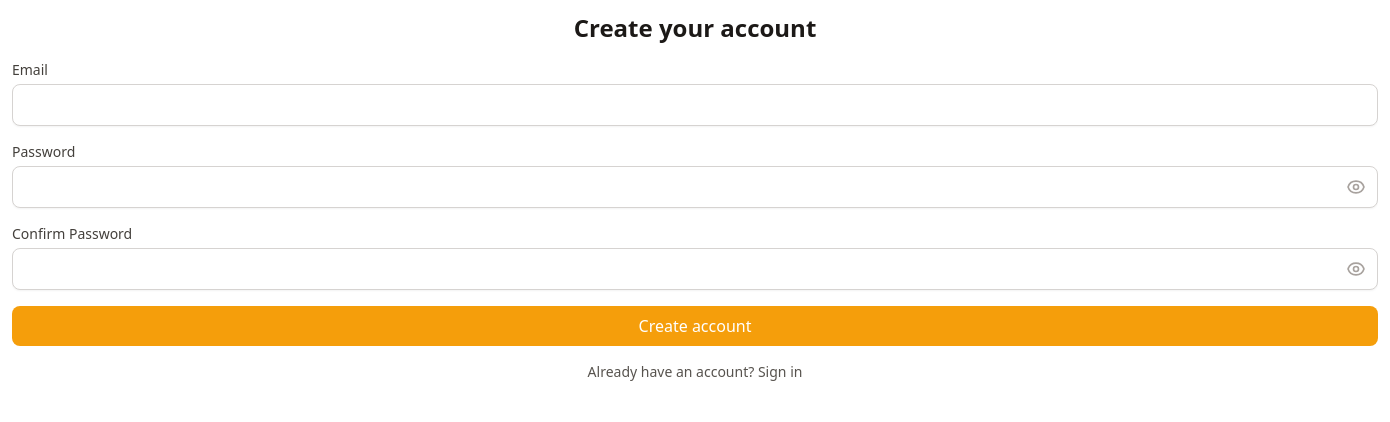
RegisterForm › shows error when password lacks complexity
Type "test@example.com" into the field labelled "Email" at (695, 105), box [12,84,1378,126]
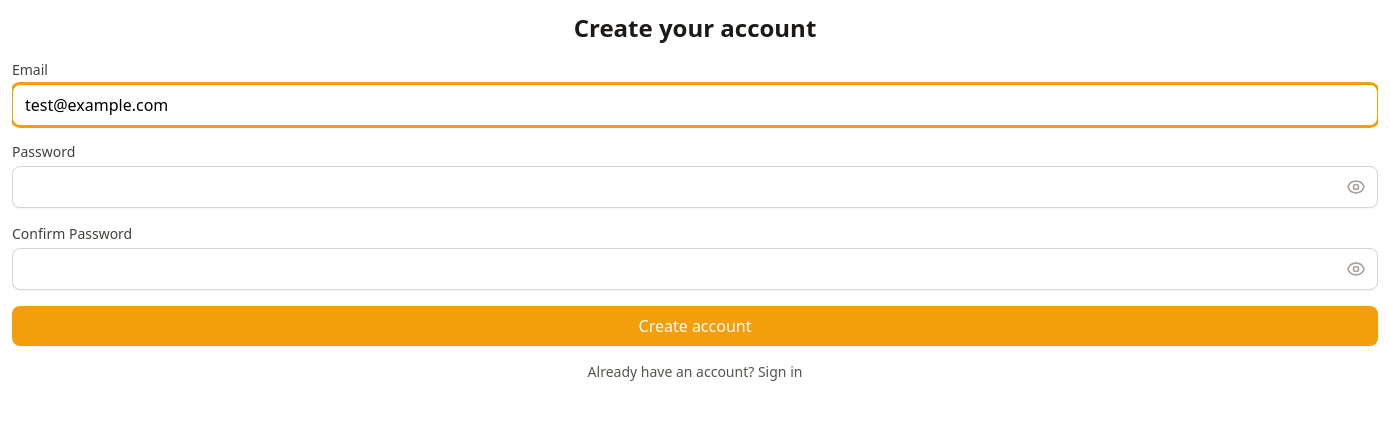
Type "alllowercase" into the password field labelled "Password" at (695, 187), box [12,166,1378,208]
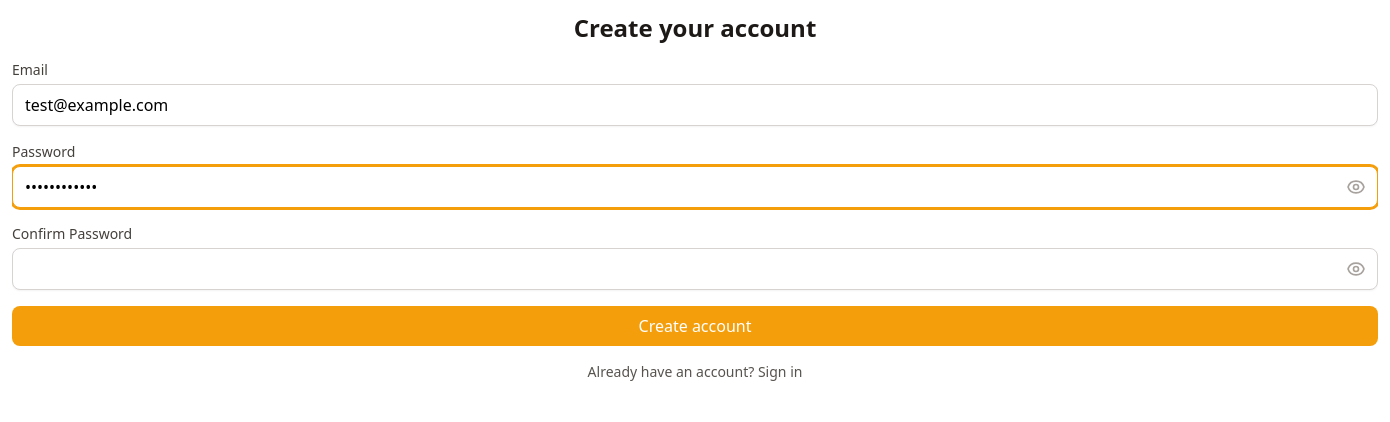
Type "alllowercase" into the password field labelled "Confirm Password" at (695, 269), box [12,248,1378,290]
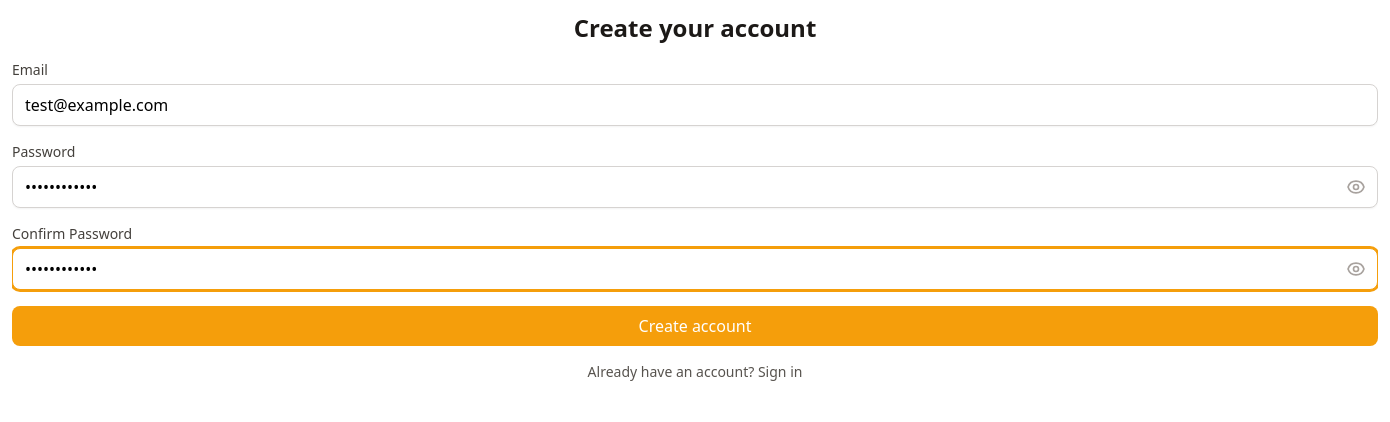
Click the button "Create account" at (695, 326), box [12,306,1378,346]
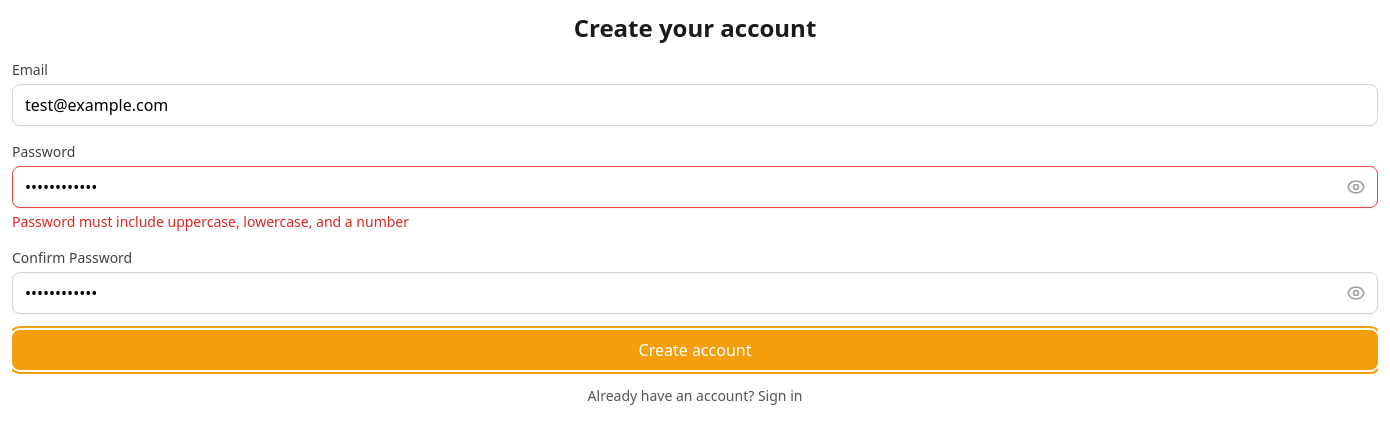
Now the text "Password must include uppercase, lowercase, and a number" is shown, box [12,212,409,231]
